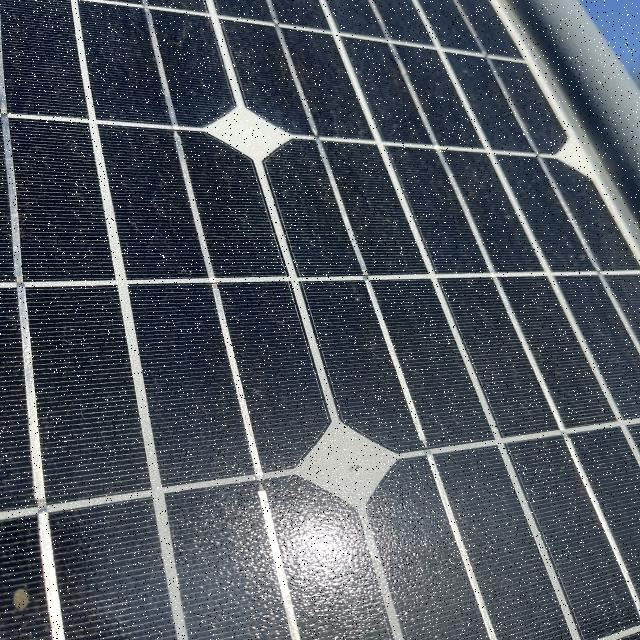clean: (1, 0, 640, 639)
